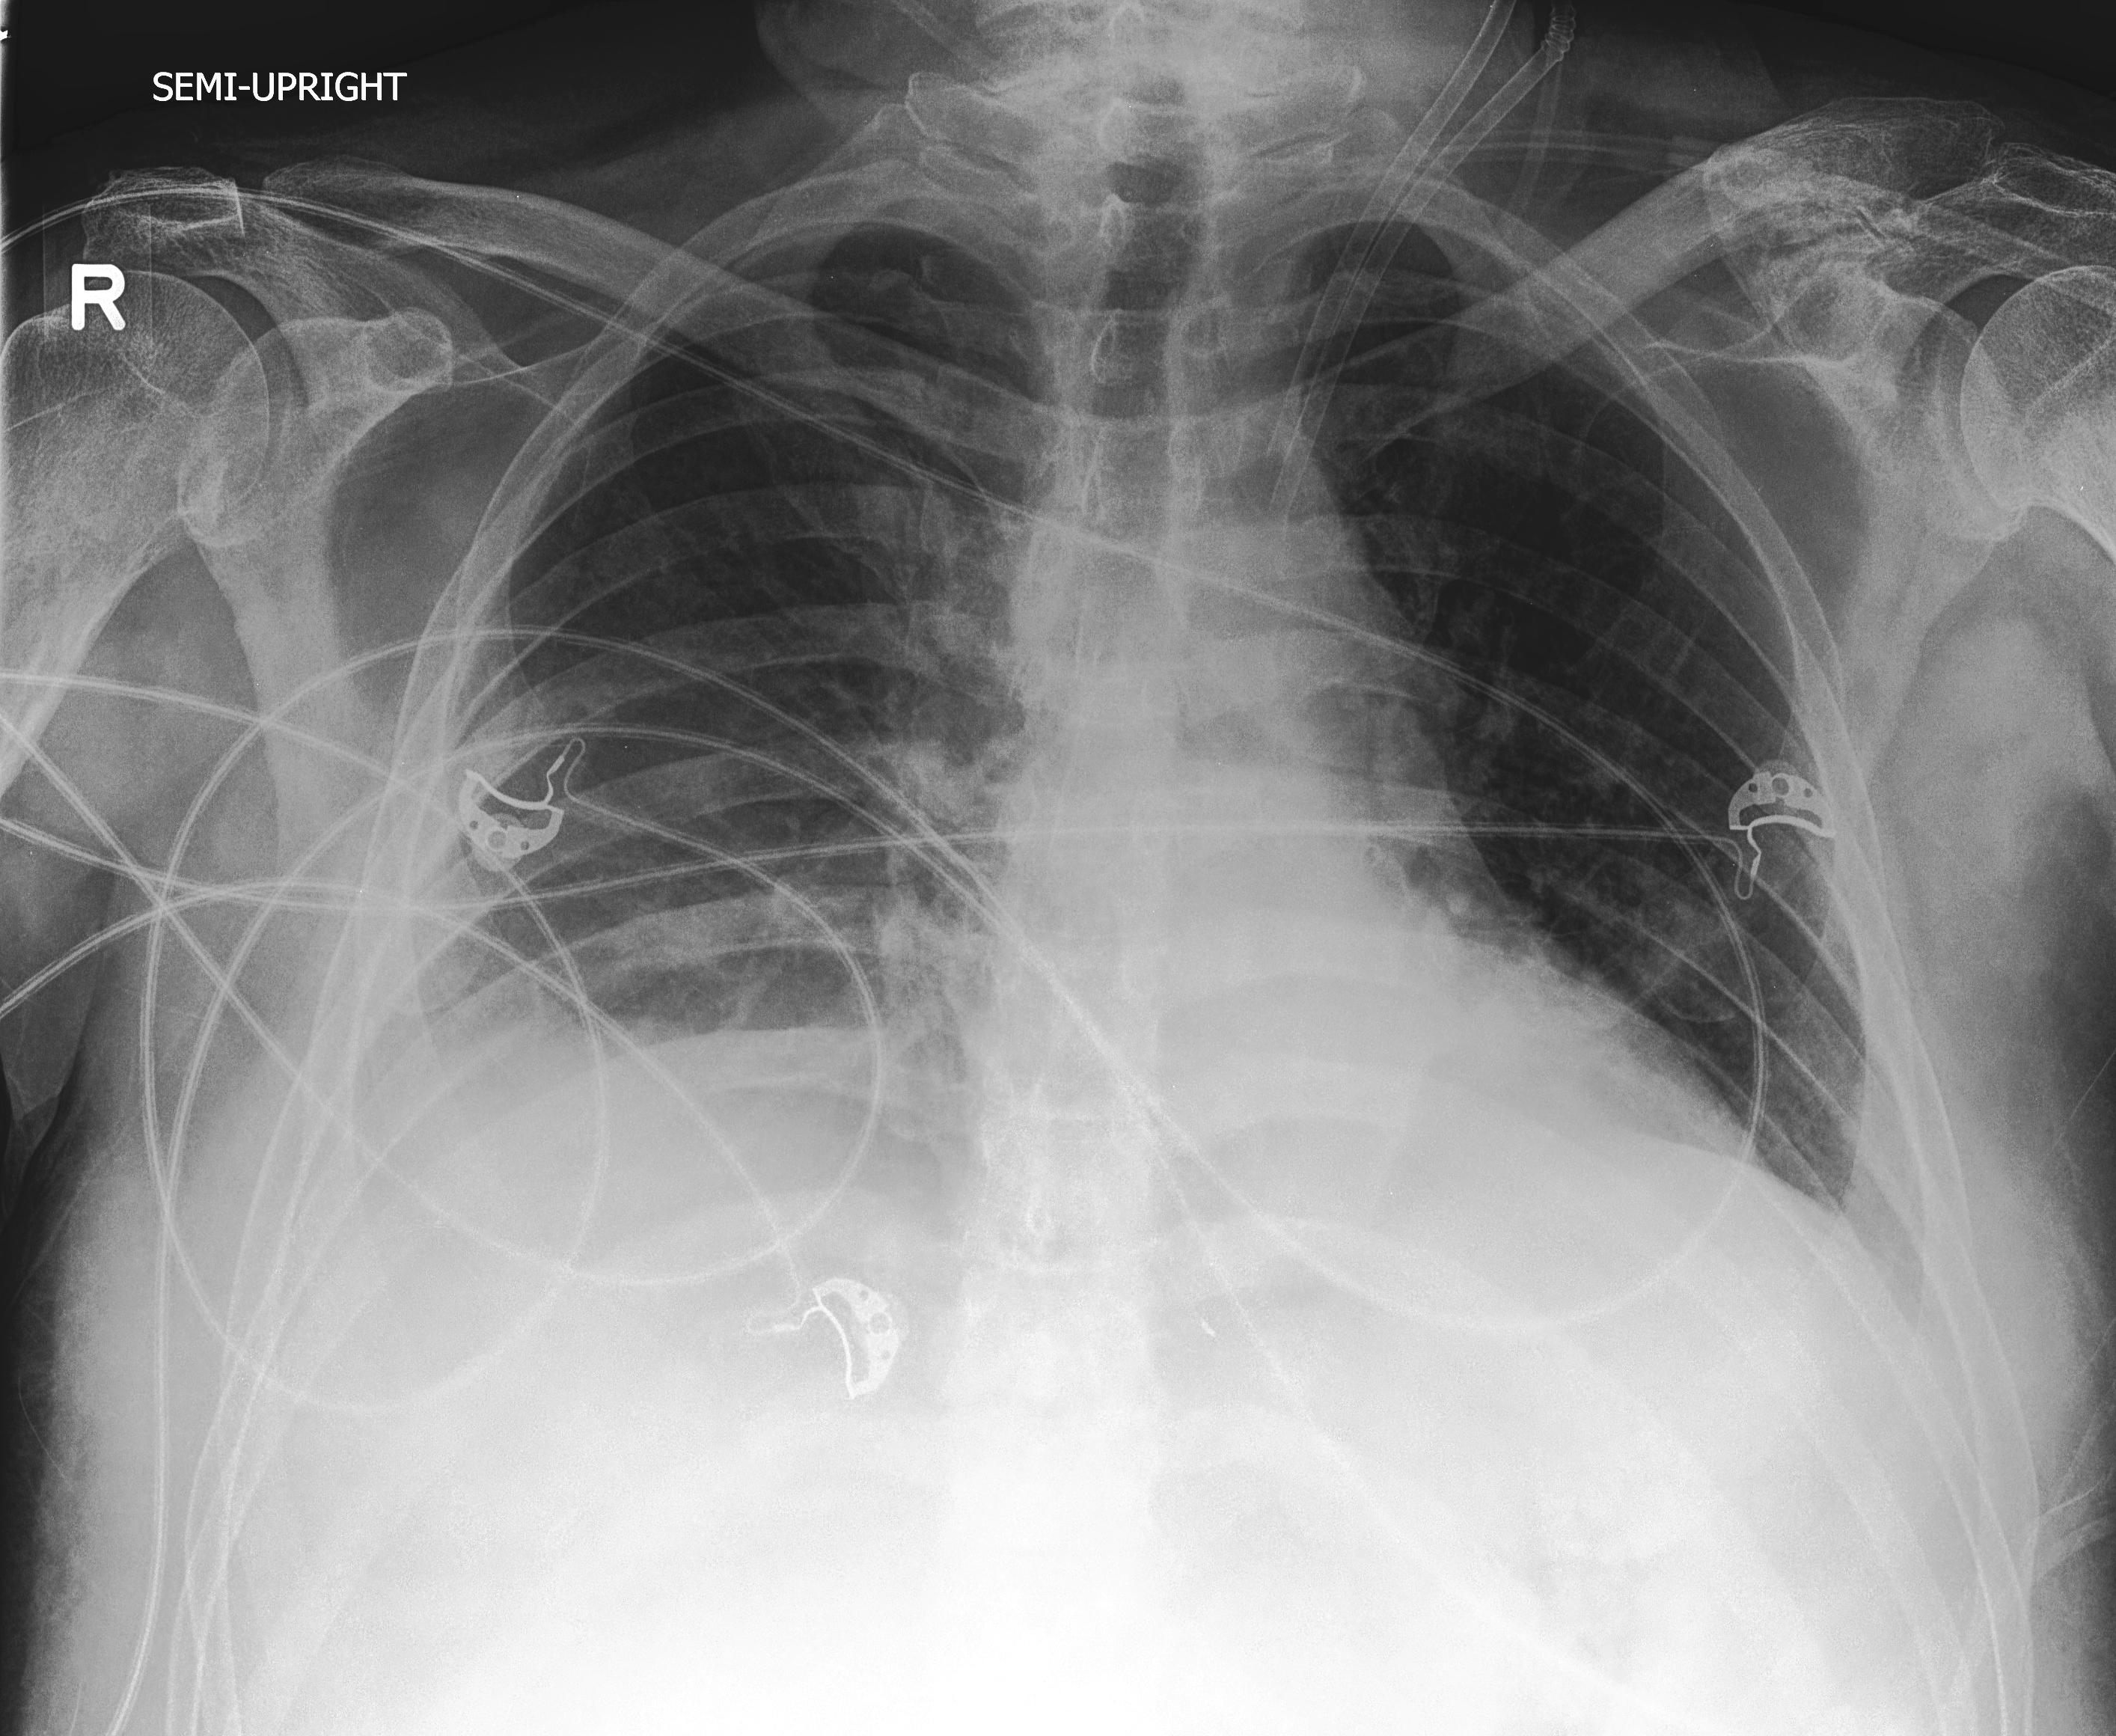Pleural Effusion: (197, 986, 766, 1450), (1678, 1165, 2019, 1450)
